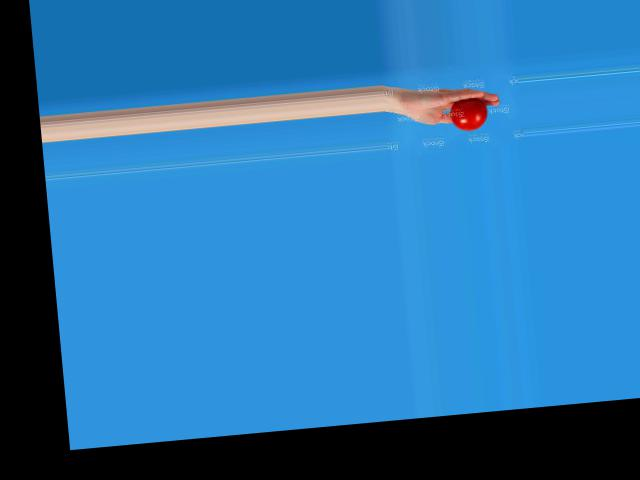tomato: (449, 97, 488, 131)
